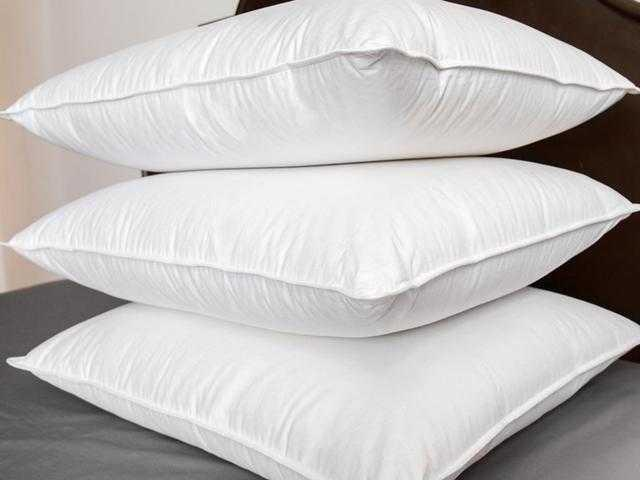pillow: (6, 285, 638, 479), (1, 154, 639, 338), (0, 0, 639, 172)
